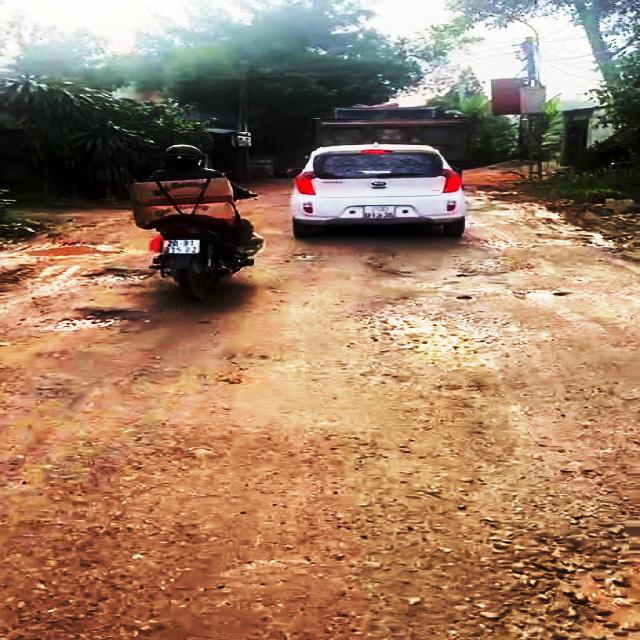pothole: (510, 556, 640, 640), (370, 314, 484, 359), (30, 304, 167, 334), (75, 266, 158, 285)
